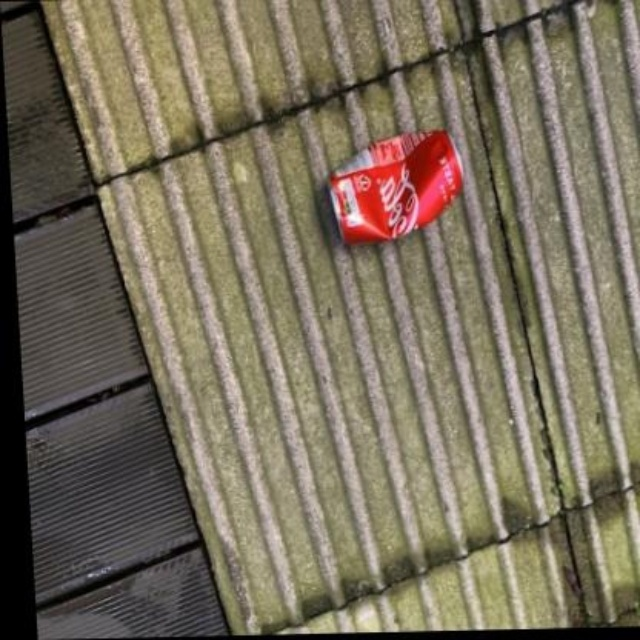trash: (329, 129, 460, 243)
